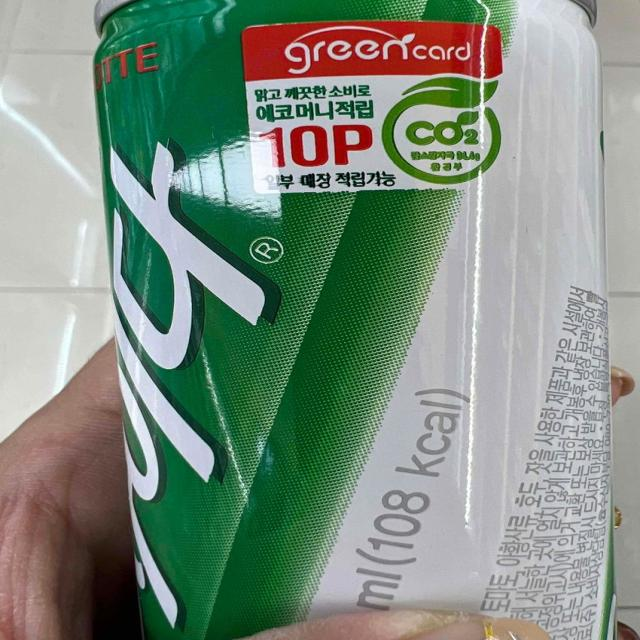can: (91, 0, 618, 640)
